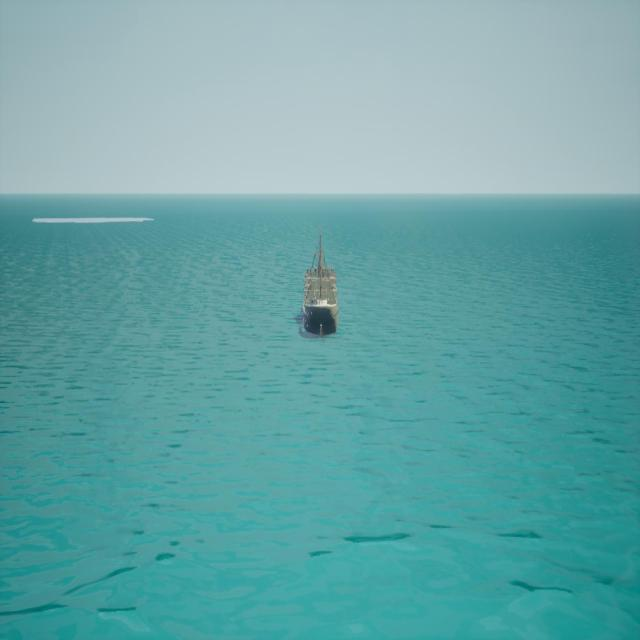fishing ship: (301, 229, 340, 339)
